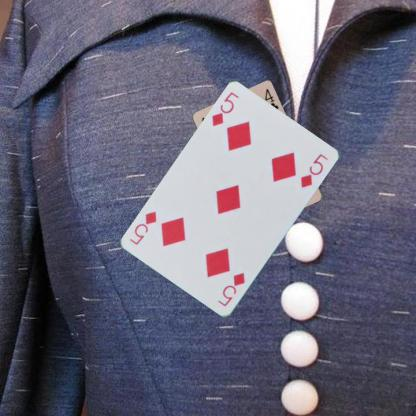5d: (215, 270, 247, 308), (209, 90, 240, 128)
